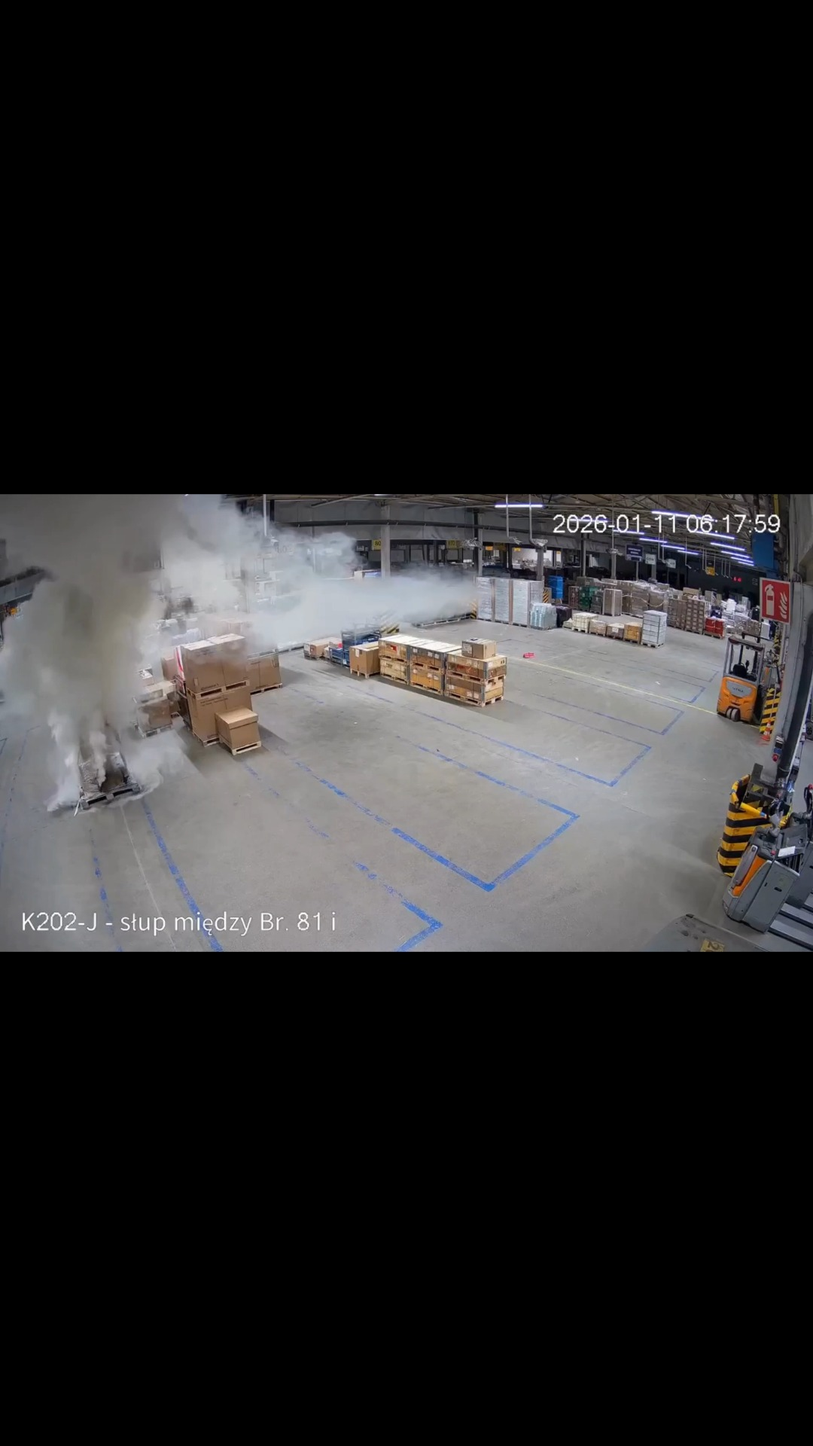smoke: (0, 495, 480, 813)
